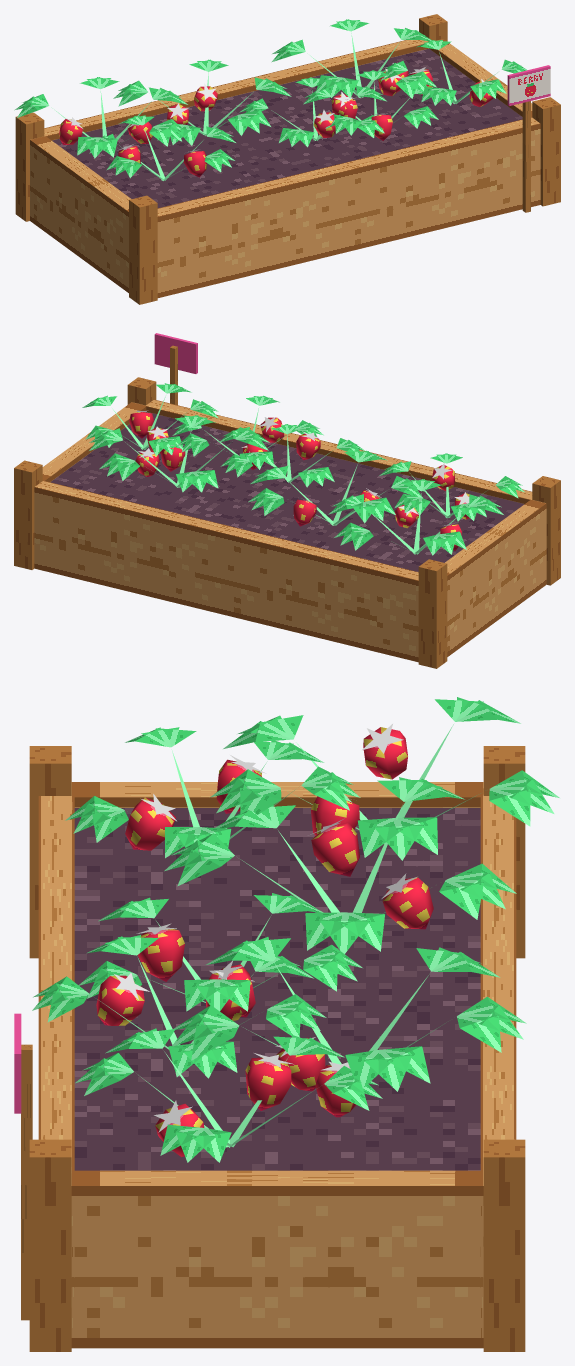
File: Strawberry Patch.fbx
The picture shows the model from 3 angles, top to bottom: view 1: azimuth 30°, elevation 25°; view 2: azimuth 150°, elevation 25°; view 3: azimuth 270°, elevation 25°; orthographic projection. The views are drawn at different scales.
Parts seen in each view (by area): view 1: Strawberry Patch side -1, Strawberry Patch soil, Strawberry Patch end -1, Strawberry Patch side 1, Strawberry Patch post -1 -1, Strawberry Patch plant 3, Strawberry Patch plant 5, Strawberry Patch post 1 -1, Strawberry Patch plant 1, Strawberry Patch post -1 1, Strawberry Patch plant 4, Strawberry Patch plant 0 (+12 smaller); view 2: Strawberry Patch side 1, Strawberry Patch soil, Strawberry Patch end -1, Strawberry Patch side -1, Strawberry Patch post -1 1, Strawberry Patch plant 3, Strawberry Patch plant 5, Strawberry Patch plant 1, Strawberry Patch post 1 1, Strawberry Patch post -1 -1, Strawberry Patch plant 0, Strawberry Patch plant 4 (+9 smaller); view 3: Strawberry Patch soil, Strawberry Patch end 1, Strawberry Patch side -1, Strawberry Patch side 1, Strawberry Patch plant 1, Strawberry Patch plant 3, Strawberry Patch plant 5, Strawberry Patch post 1 -1, Strawberry Patch post 1 1, Strawberry Patch plant 4, Strawberry Patch end -1, Strawberry Patch plant 6 (+16 smaller).
Part boxes in pixels (x1=…): Strawberry Patch side -1: x1=157, y1=117, x2=540, y2=297; Strawberry Patch soil: x1=52, y1=48, x2=522, y2=208; Strawberry Patch end -1: x1=30, y1=136, x2=131, y2=292; Strawberry Patch side 1: x1=30, y1=39, x2=443, y2=220; Strawberry Patch post -1 -1: x1=129, y1=195, x2=157, y2=304; Strawberry Patch plant 3: x1=271, y1=19, x2=436, y2=98; Strawberry Patch plant 5: x1=14, y1=77, x2=187, y2=158; Strawberry Patch post 1 -1: x1=532, y1=97, x2=560, y2=206; Strawberry Patch plant 1: x1=113, y1=59, x2=291, y2=145; Strawberry Patch post -1 1: x1=15, y1=112, x2=44, y2=221; Strawberry Patch plant 4: x1=381, y1=40, x2=527, y2=105; Strawberry Patch plant 0: x1=89, y1=115, x2=235, y2=180; Strawberry Patch side 1: x1=34, y1=480, x2=418, y2=662; Strawberry Patch soil: x1=50, y1=412, x2=524, y2=571; Strawberry Patch end -1: x1=445, y1=500, x2=545, y2=656; Strawberry Patch side -1: x1=131, y1=399, x2=546, y2=584; Strawberry Patch post -1 1: x1=418, y1=559, x2=447, y2=668; Strawberry Patch plant 3: x1=89, y1=415, x2=269, y2=492; Strawberry Patch plant 5: x1=328, y1=479, x2=503, y2=555; Strawberry Patch plant 1: x1=248, y1=450, x2=425, y2=525; Strawberry Patch post 1 1: x1=14, y1=460, x2=42, y2=569; Strawberry Patch post -1 -1: x1=532, y1=476, x2=560, y2=585; Strawberry Patch plant 0: x1=379, y1=453, x2=524, y2=521; Strawberry Patch plant 4: x1=82, y1=383, x2=218, y2=455; Strawberry Patch soil: x1=74, y1=808, x2=480, y2=1170; Strawberry Patch end 1: x1=74, y1=1170, x2=480, y2=1348; Strawberry Patch side -1: x1=38, y1=782, x2=74, y2=1348; Strawberry Patch side 1: x1=480, y1=782, x2=516, y2=1348; Strawberry Patch plant 1: x1=164, y1=777, x2=516, y2=953; Strawberry Patch plant 3: x1=172, y1=936, x2=526, y2=1091; Strawberry Patch plant 5: x1=210, y1=697, x2=559, y2=860; Strawberry Patch post 1 -1: x1=29, y1=1139, x2=71, y2=1351; Strawberry Patch post 1 1: x1=483, y1=1139, x2=525, y2=1351; Strawberry Patch plant 4: x1=75, y1=1028, x2=382, y2=1162; Strawberry Patch end -1: x1=74, y1=782, x2=480, y2=807; Strawberry Patch plant 6: x1=32, y1=935, x2=326, y2=1078.
Size of the model in its own units: 1.72 by 0.525 by 0.9152.
8 materials, 7 textured.
